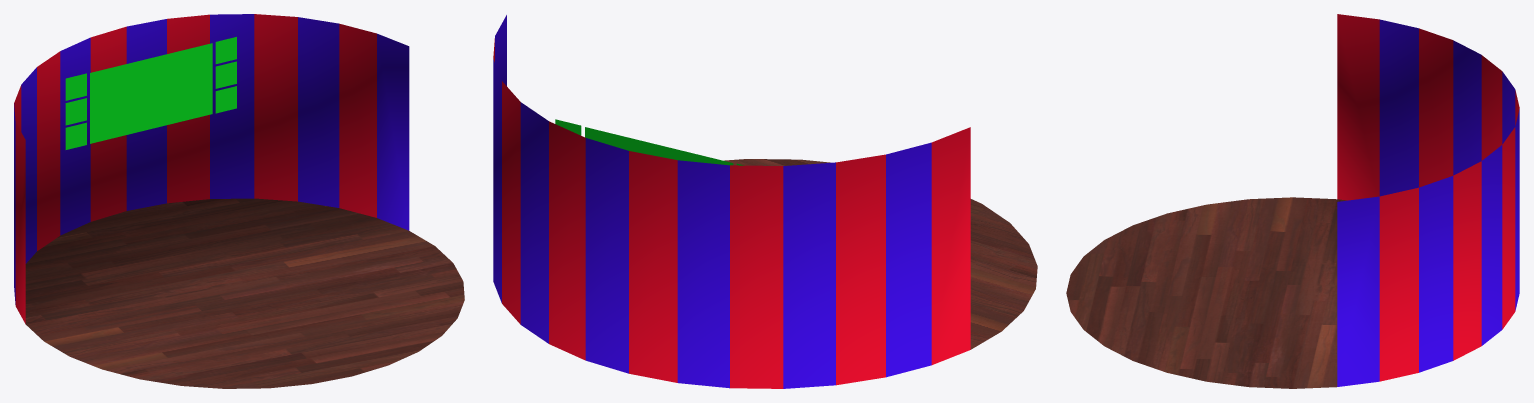
Rendered from Escenario y Pantalla.gltf.
3 renders of one model, left to right at view 1: azimuth 30°, elevation 25°; view 2: azimuth 150°, elevation 25°; view 3: azimuth 270°, elevation 25°, orthographic. The views are drawn at different scales.
Visible parts, largest first — view 1: Escenario, Pantalla; view 2: Escenario, Pantalla; view 3: Escenario.
Part boxes in pixels (x1,y1,x2,y2): Escenario: (14,14,464,388); Pantalla: (65,37,236,149); Escenario: (493,15,1037,388); Pantalla: (555,119,744,165); Escenario: (1066,14,1519,388).
Bounding box in the file's own units: 69.49 × 31.32 × 69.49.
4 materials, 1 textured.
